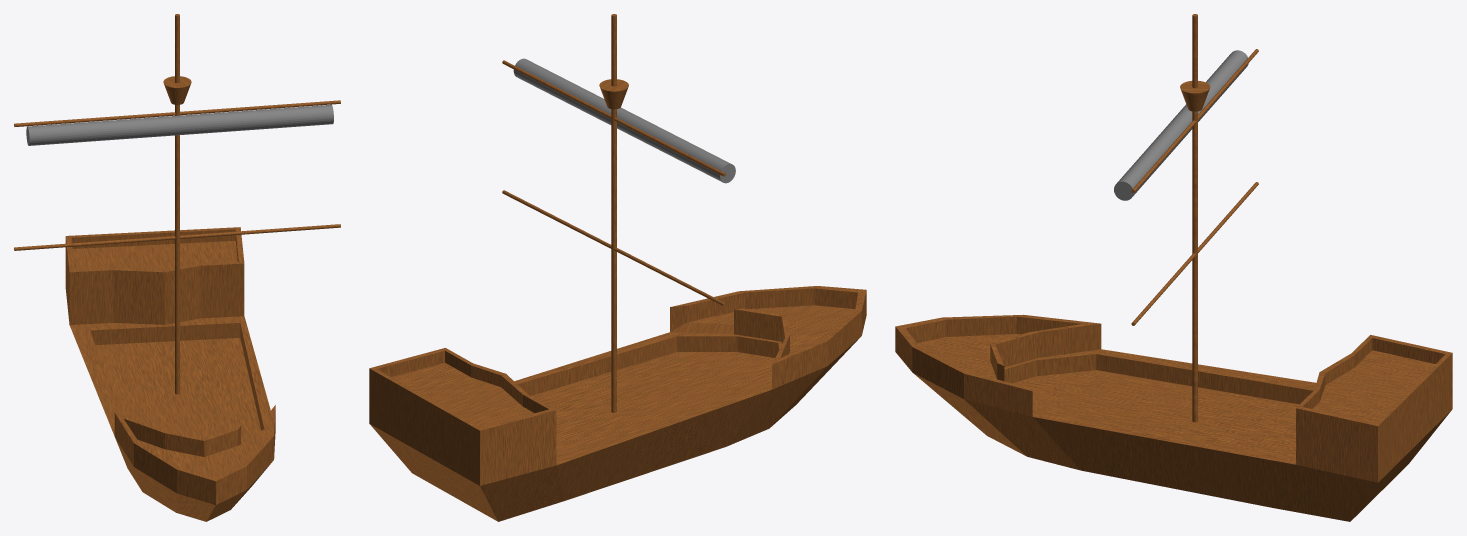
Rendered from BossShipResized.dae.
The picture shows the model from 3 angles, left to right: view 1: azimuth 30°, elevation 25°; view 2: azimuth 150°, elevation 25°; view 3: azimuth 270°, elevation 25°; orthographic projection. The views are drawn at different scales.
Visible parts, largest first — view 1: BossDaveyJonesShip, BossDaveyJonesSail, BossDaveyJonesMast; view 2: BossDaveyJonesShip, BossDaveyJonesMast, BossDaveyJonesSail; view 3: BossDaveyJonesShip, BossDaveyJonesMast, BossDaveyJonesSail.
Boxes of the visible parts, x1,y1,x2,y2 form: BossDaveyJonesShip: [65, 227, 275, 521]; BossDaveyJonesSail: [26, 104, 333, 145]; BossDaveyJonesMast: [14, 14, 340, 394]; BossDaveyJonesShip: [369, 286, 866, 521]; BossDaveyJonesMast: [502, 14, 726, 412]; BossDaveyJonesSail: [513, 58, 735, 183]; BossDaveyJonesShip: [895, 314, 1452, 521]; BossDaveyJonesMast: [1131, 14, 1258, 422]; BossDaveyJonesSail: [1114, 50, 1248, 200].
Size of what is drawn, in the model's own units: 23.46 by 37.24 by 32.72.
2 materials, 1 textured.
